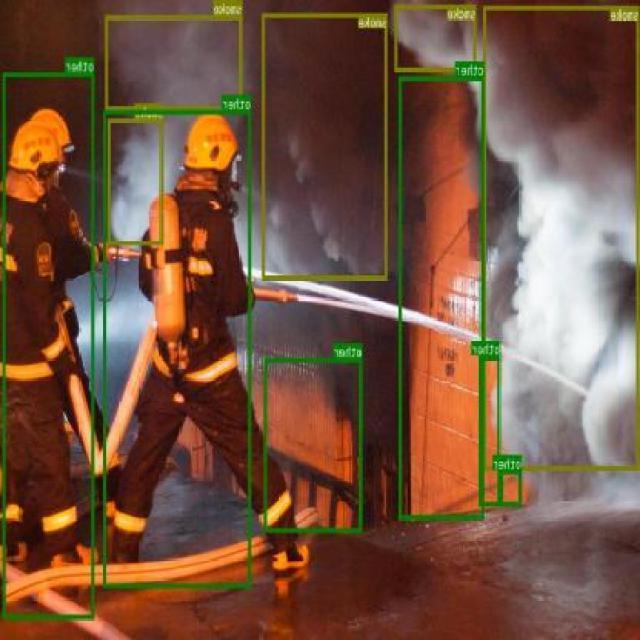Smoke: (484, 4, 640, 470), (263, 12, 388, 278), (106, 15, 243, 110), (108, 118, 164, 244), (396, 4, 476, 72)
